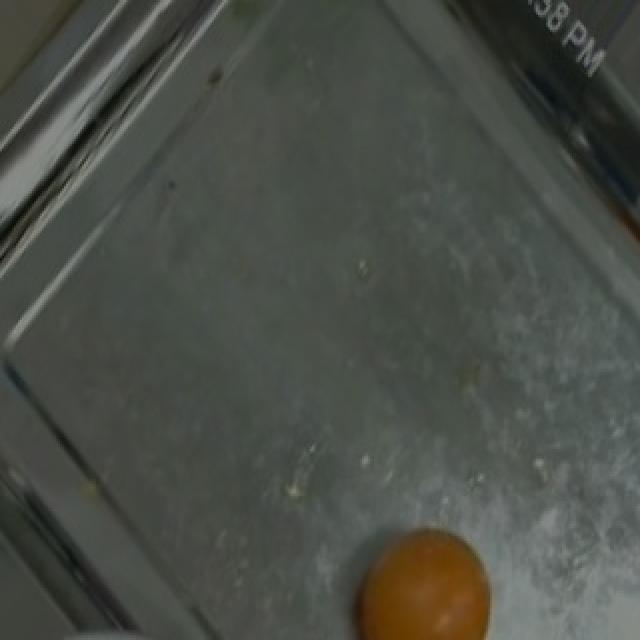Fruit: (342, 513, 514, 640)
